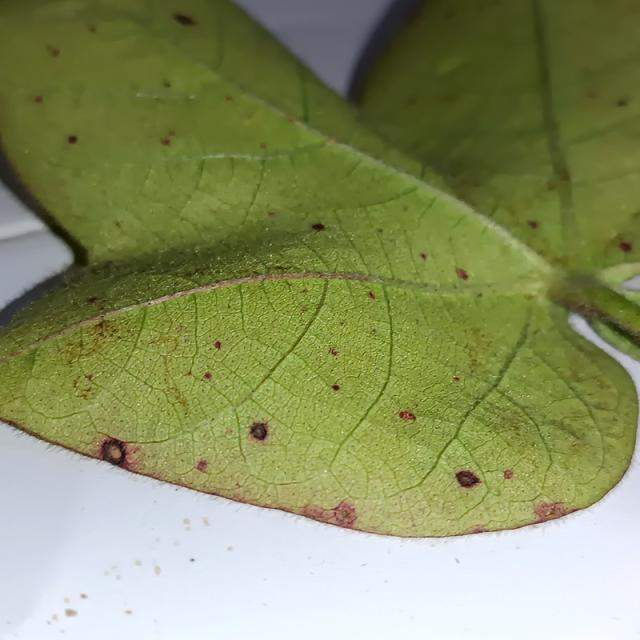Bacterial_Blight: (244, 415, 288, 449), (443, 258, 477, 284), (99, 437, 129, 466), (327, 501, 358, 526), (534, 501, 565, 520), (454, 469, 482, 488), (172, 12, 196, 26), (398, 410, 416, 421), (310, 222, 326, 232), (618, 241, 631, 252), (67, 134, 79, 145), (160, 137, 172, 146), (213, 340, 222, 350), (329, 348, 338, 356), (331, 384, 340, 391)
Cotton: (0, 0, 639, 535)
